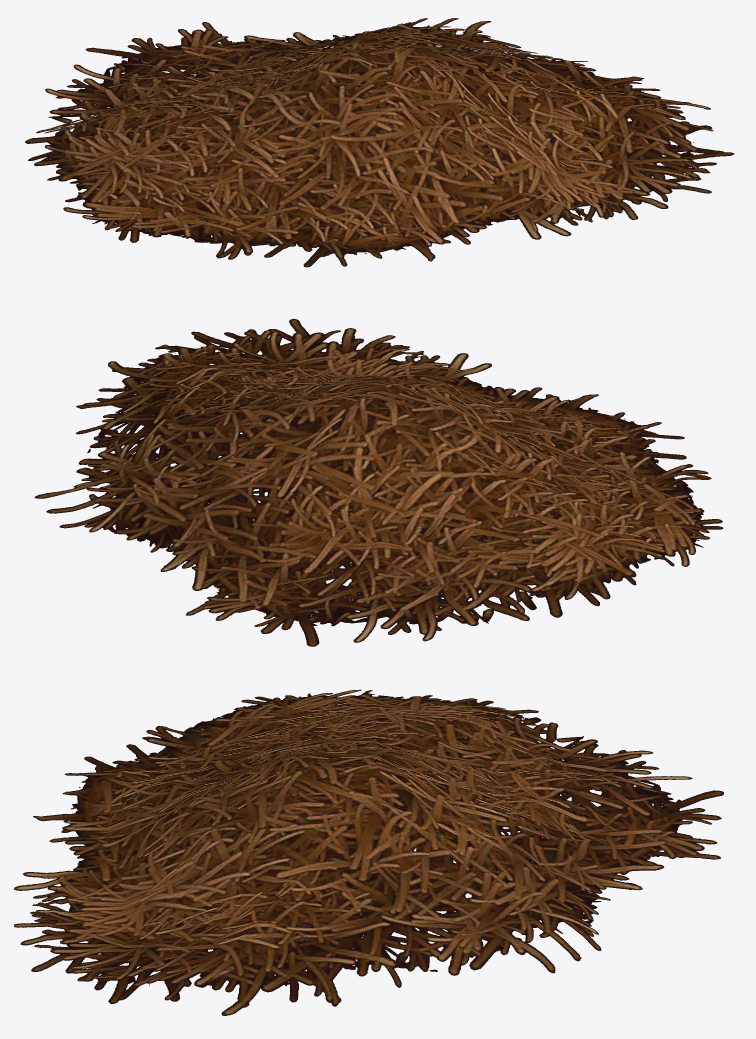
3 views of the same model, one above another, from view 1: azimuth 30°, elevation 25°; view 2: azimuth 150°, elevation 25°; view 3: azimuth 270°, elevation 25° (orthographic). The views are drawn at different scales.
Visible parts, largest first — view 1: SM_Hay_Pile_01_LOD0; view 2: SM_Hay_Pile_01_LOD0; view 3: SM_Hay_Pile_01_LOD0.
Part boxes in pixels (bbox=[...]): SM_Hay_Pile_01_LOD0: bbox=[25, 18, 733, 267]; SM_Hay_Pile_01_LOD0: bbox=[34, 318, 723, 646]; SM_Hay_Pile_01_LOD0: bbox=[14, 689, 723, 1015].
Bounding box in the file's own units: 2.41 × 0.3021 × 2.18.
1 material, 1 textured.
